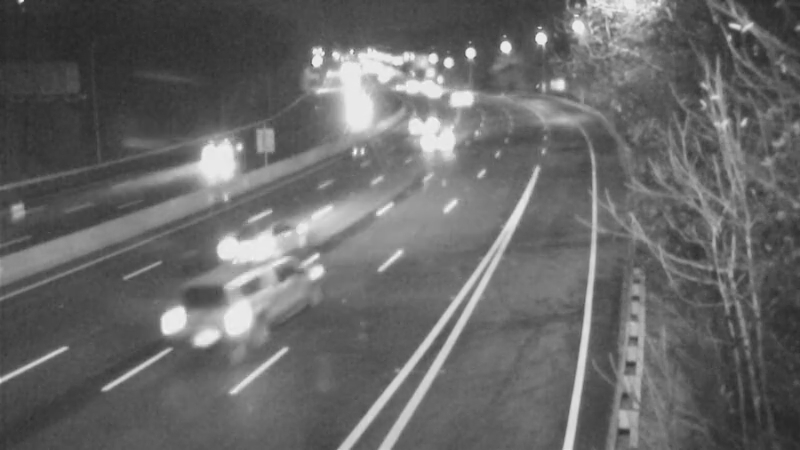vehicle: (157, 255, 267, 365), (214, 193, 294, 273), (178, 118, 258, 198), (1, 176, 65, 256), (387, 60, 437, 110), (409, 71, 459, 121), (434, 73, 484, 123), (387, 103, 437, 153), (416, 118, 466, 168), (330, 85, 380, 135)
